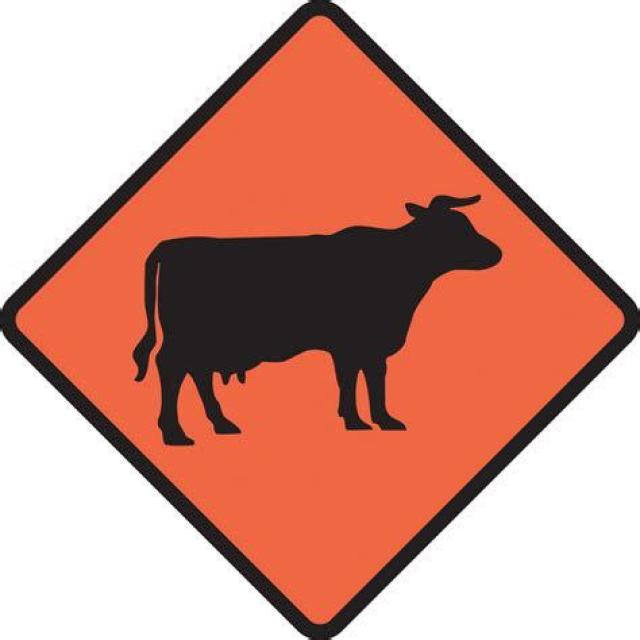cattle: (26, 24, 607, 640)
